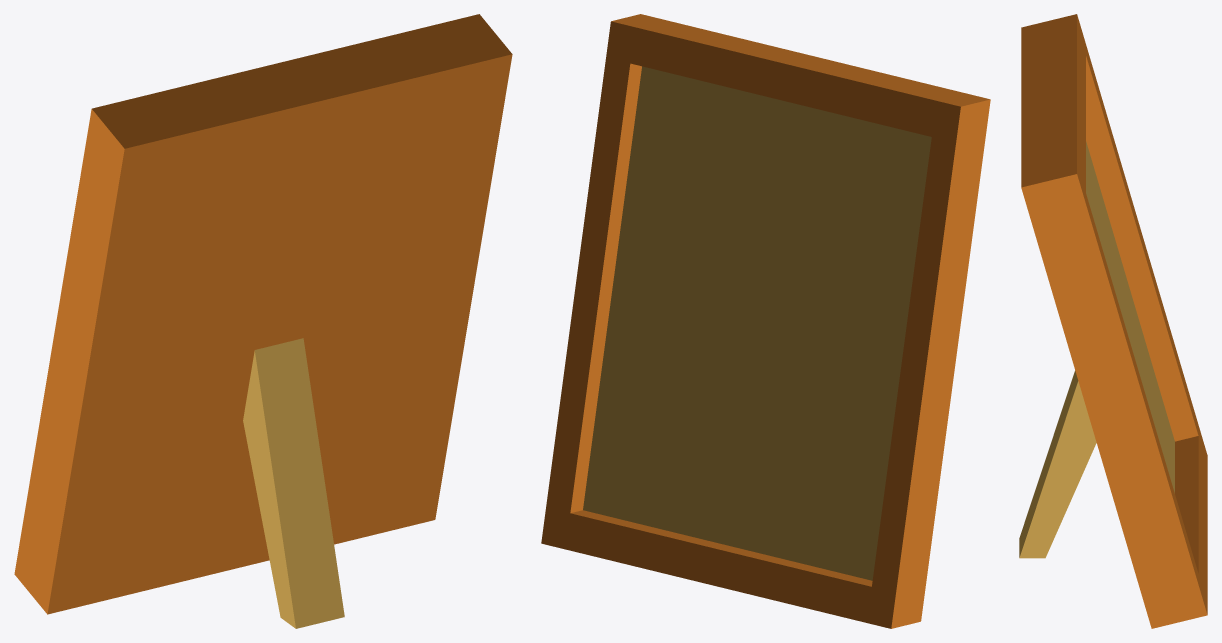
Rendered from Picture Frame 3.fbx.
3 renders of one model, left to right at view 1: azimuth 30°, elevation 25°; view 2: azimuth 150°, elevation 25°; view 3: azimuth 270°, elevation 25°, orthographic. The views are drawn at different scales.
Visible parts, largest first — view 1: Node 0; view 2: Node 0; view 3: Node 0.
Part boxes in pixels (x1,y1,x2,y2): Node 0: [14, 14, 512, 628]; Node 0: [541, 14, 990, 628]; Node 0: [1019, 14, 1207, 628].
Bounding box in the file's own units: 0.065 × 0.1733 × 0.1307.
